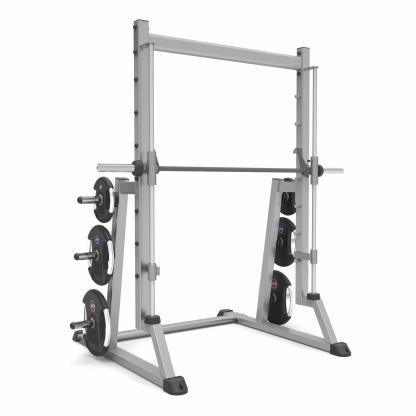smith machine: (69, 19, 352, 396)
